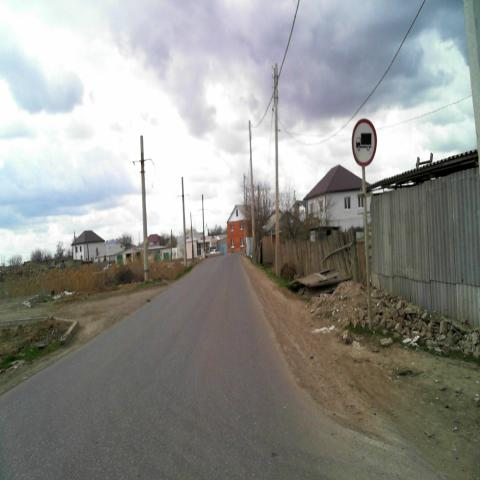3_4_1: (352, 118, 376, 166)
